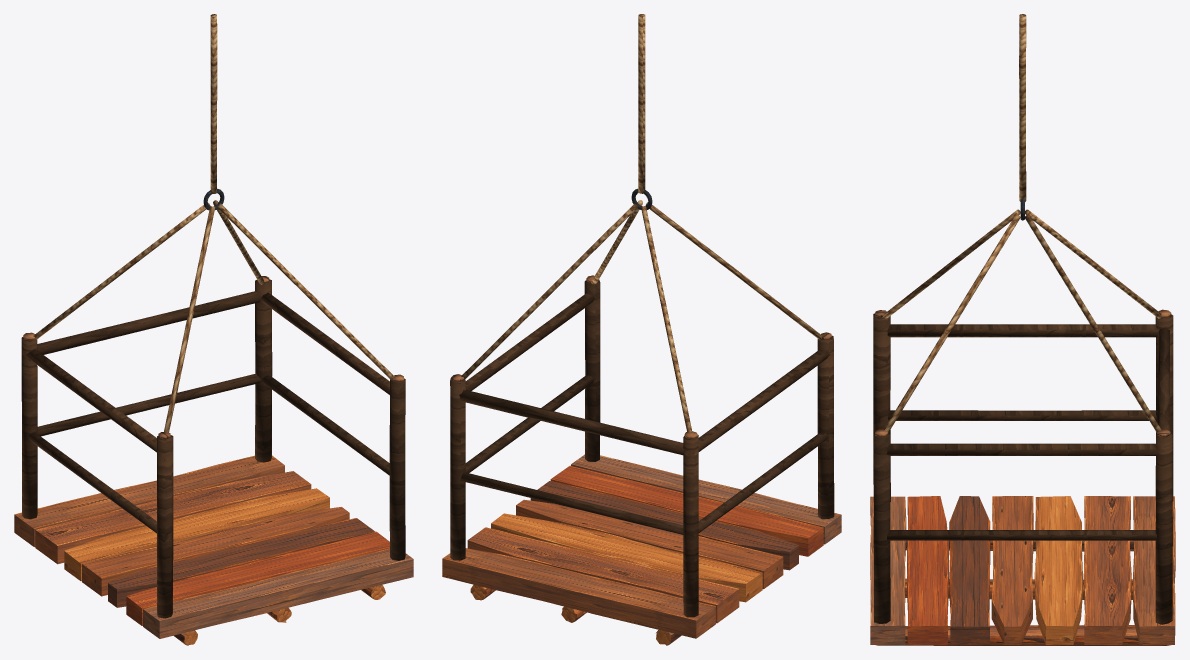
File: lift_platform.glb
The picture shows the model from 3 angles, left to right: view 1: azimuth 30°, elevation 25°; view 2: azimuth 150°, elevation 25°; view 3: azimuth 270°, elevation 25°; orthographic projection. The views are drawn at different scales.
Parts seen in each view (by area): view 1: platform, rope; view 2: platform, rope; view 3: platform, rope.
Part boxes in pixels (bbox=[...]): platform: bbox=[14, 188, 413, 645]; rope: bbox=[210, 14, 217, 193]; platform: bbox=[442, 188, 841, 645]; rope: bbox=[638, 14, 645, 193]; platform: bbox=[870, 199, 1175, 645]; rope: bbox=[1019, 14, 1026, 201].
Bounding box in the file's own units: 1.5 × 3.14 × 1.49.
Materials: 22 (22 with a texture image).
